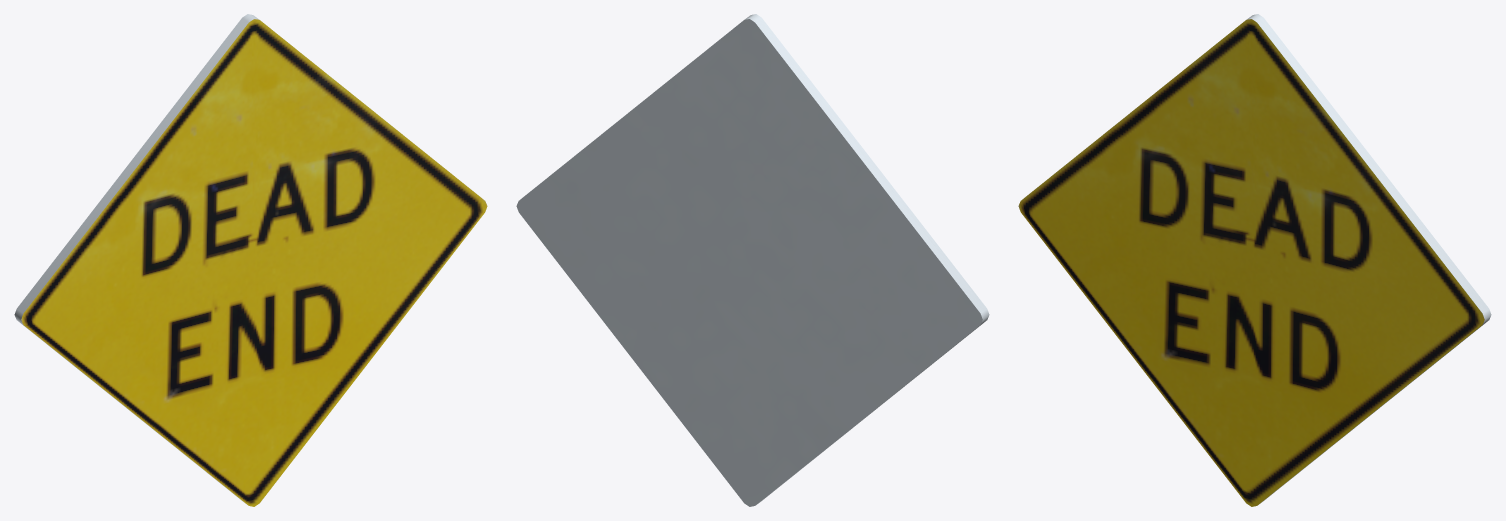
The model's file is SIgnBoard_5.fbx.
The picture shows the model from 3 angles, left to right: view 1: azimuth 30°, elevation 25°; view 2: azimuth 150°, elevation 25°; view 3: azimuth 330°, elevation 25°; orthographic projection.
Parts seen in each view (by area): view 1: SIgnBoard_5; view 2: SIgnBoard_5; view 3: SIgnBoard_5.
Boxes of the visible parts, x1,y1,x2,y2 form: SIgnBoard_5: (14, 14, 487, 506); SIgnBoard_5: (516, 14, 989, 506); SIgnBoard_5: (1018, 14, 1491, 506).
Size of the model in its own units: 1.03 by 1.03 by 0.0255.
